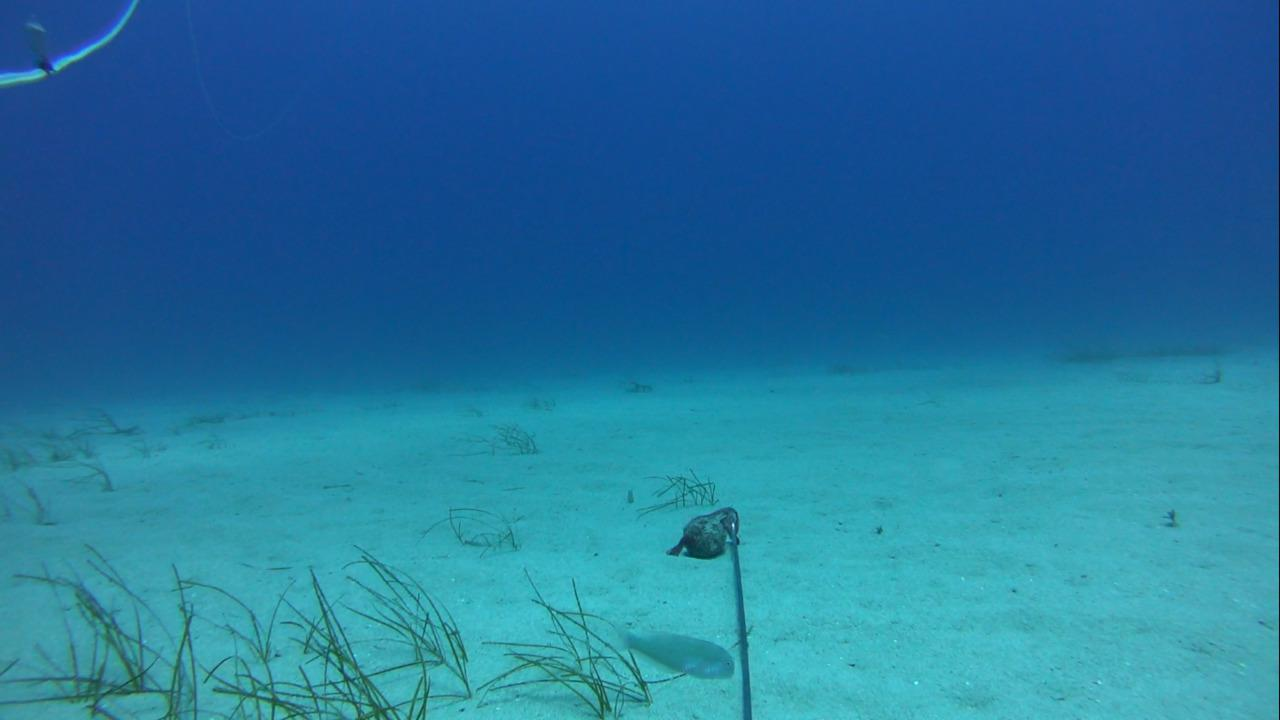raor: (603, 621, 741, 688)
